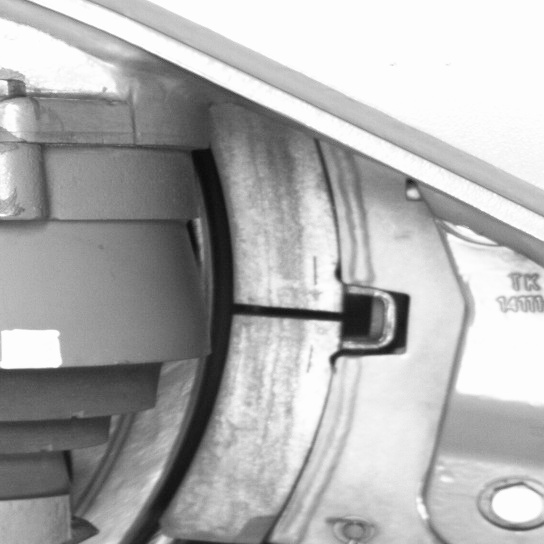KnifeSwitch: (117, 145, 351, 541)
